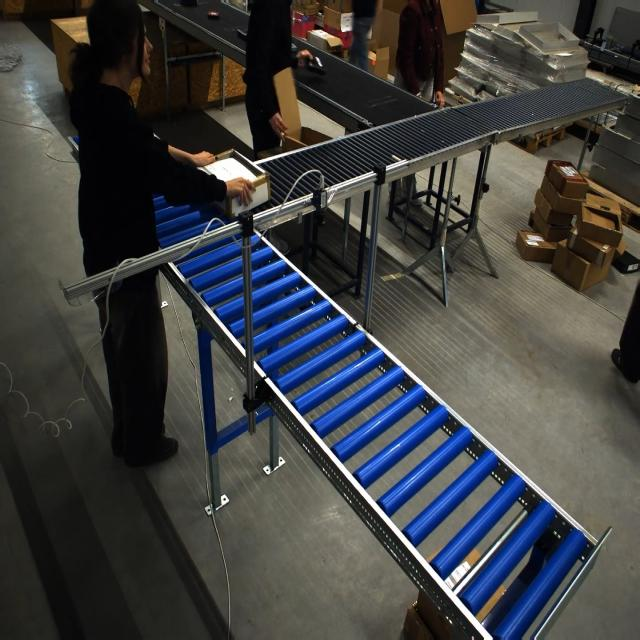box: (266, 60, 335, 153), (199, 151, 271, 218), (373, 46, 390, 80)
product: (305, 56, 326, 75), (236, 28, 248, 40), (207, 10, 220, 19)
